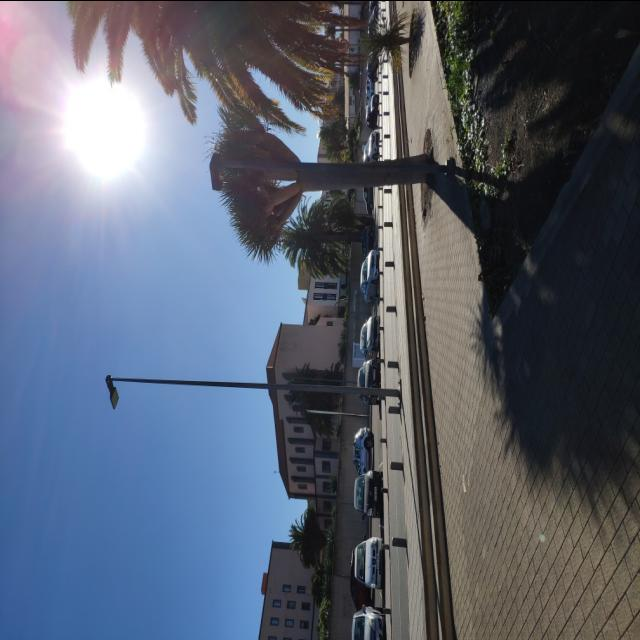Palm-Trees: (278, 208, 364, 265)
